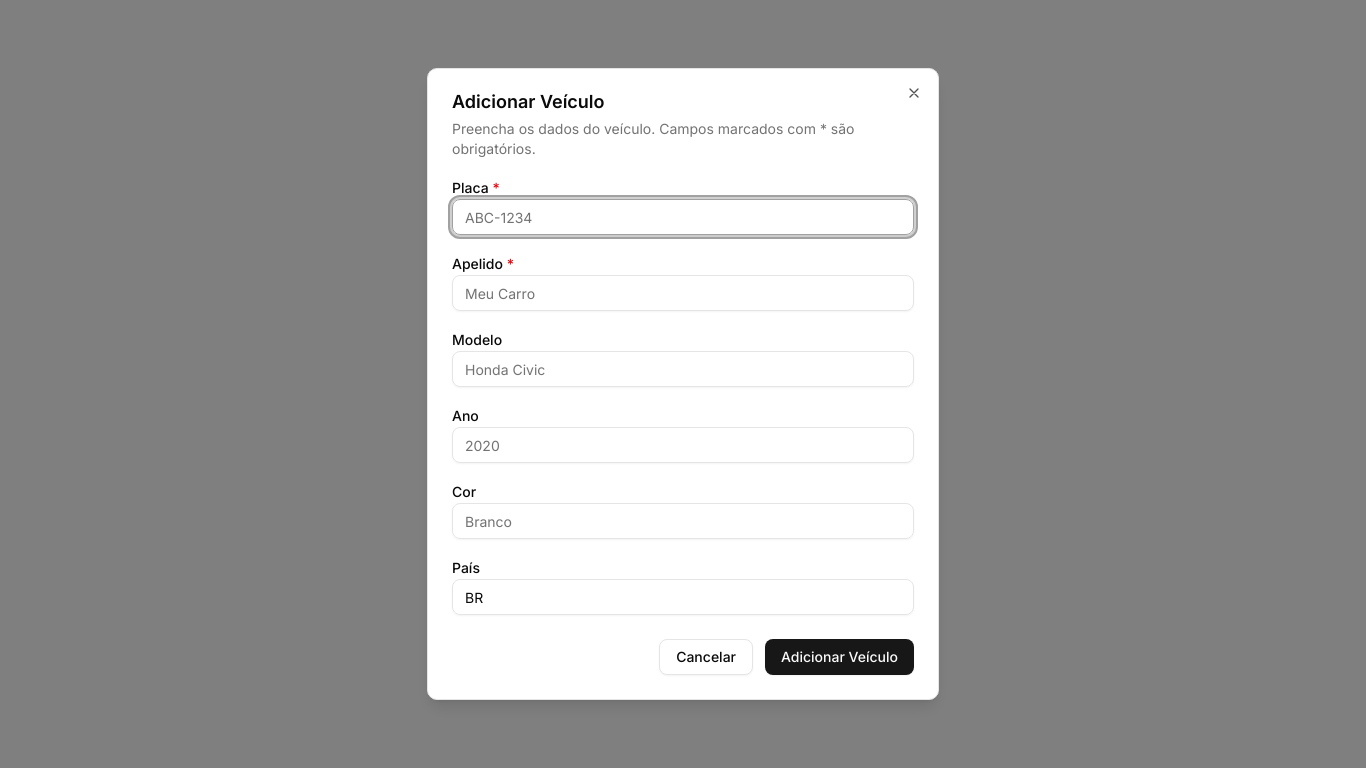
vehicleForm › validation › should show validation error when year is out of range
Type "ABC1234" into the field labelled "Placa *".
click(683, 217); type("ABC1234")  # box [452, 199, 914, 235]
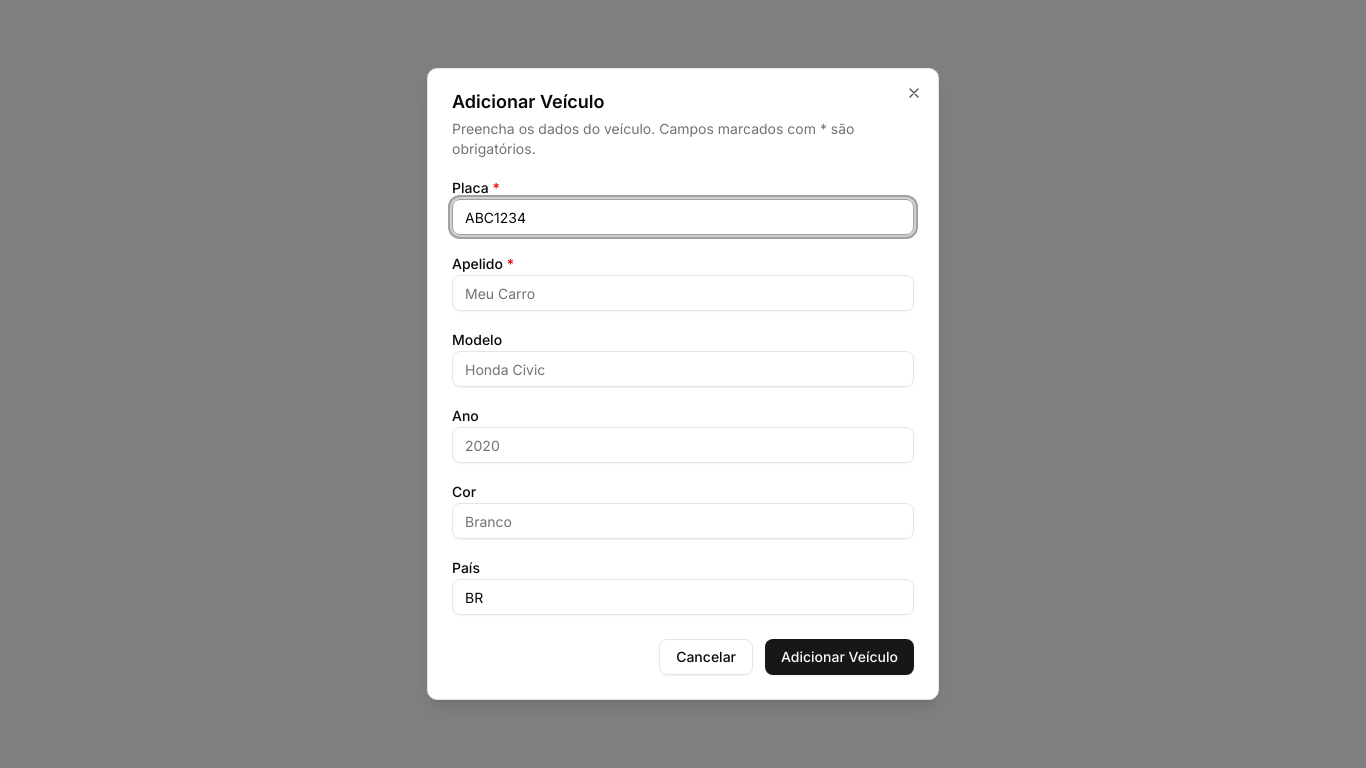
Type "Test Vehicle" into the field labelled "Apelido *".
click(683, 293); type("Test Vehicle")  # box [452, 275, 914, 311]
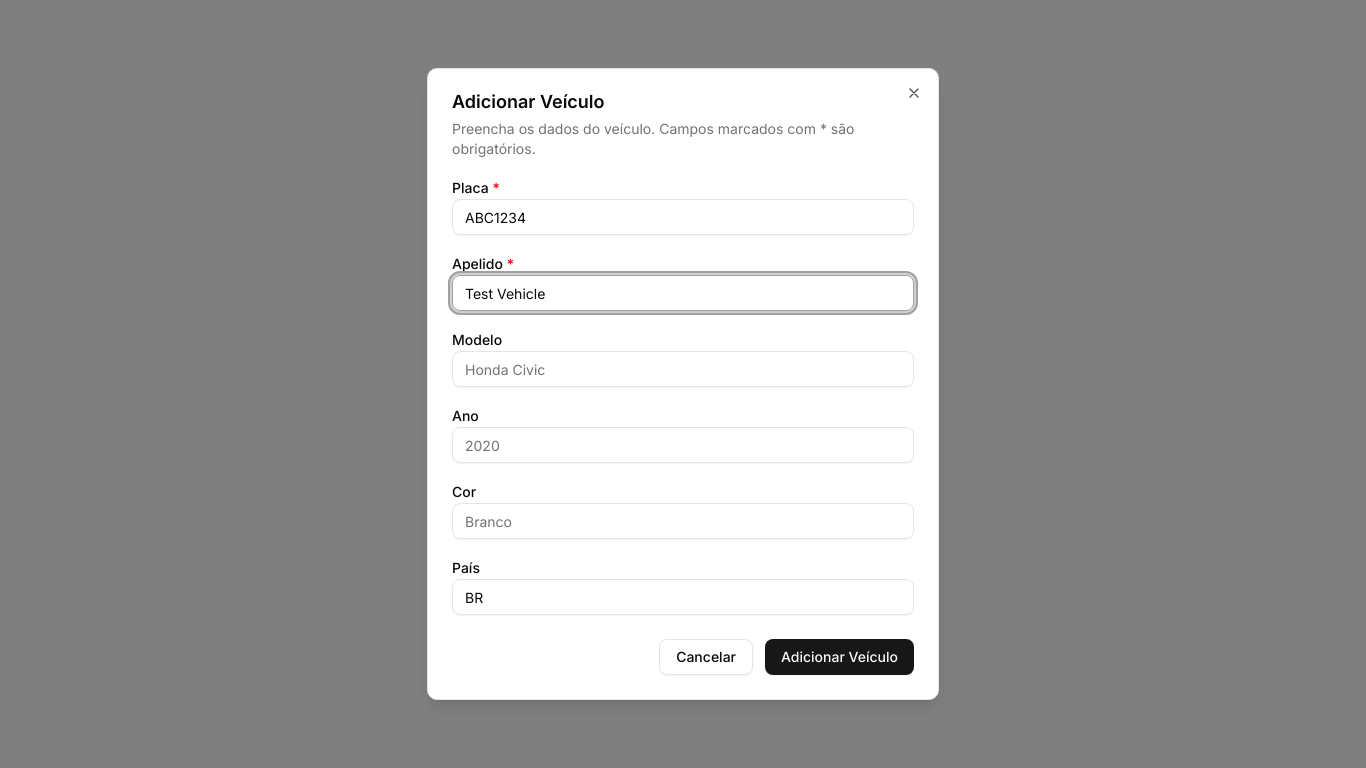
Type "1899" into the number field labelled "Ano".
click(683, 445); type("1899")  # box [452, 427, 914, 463]
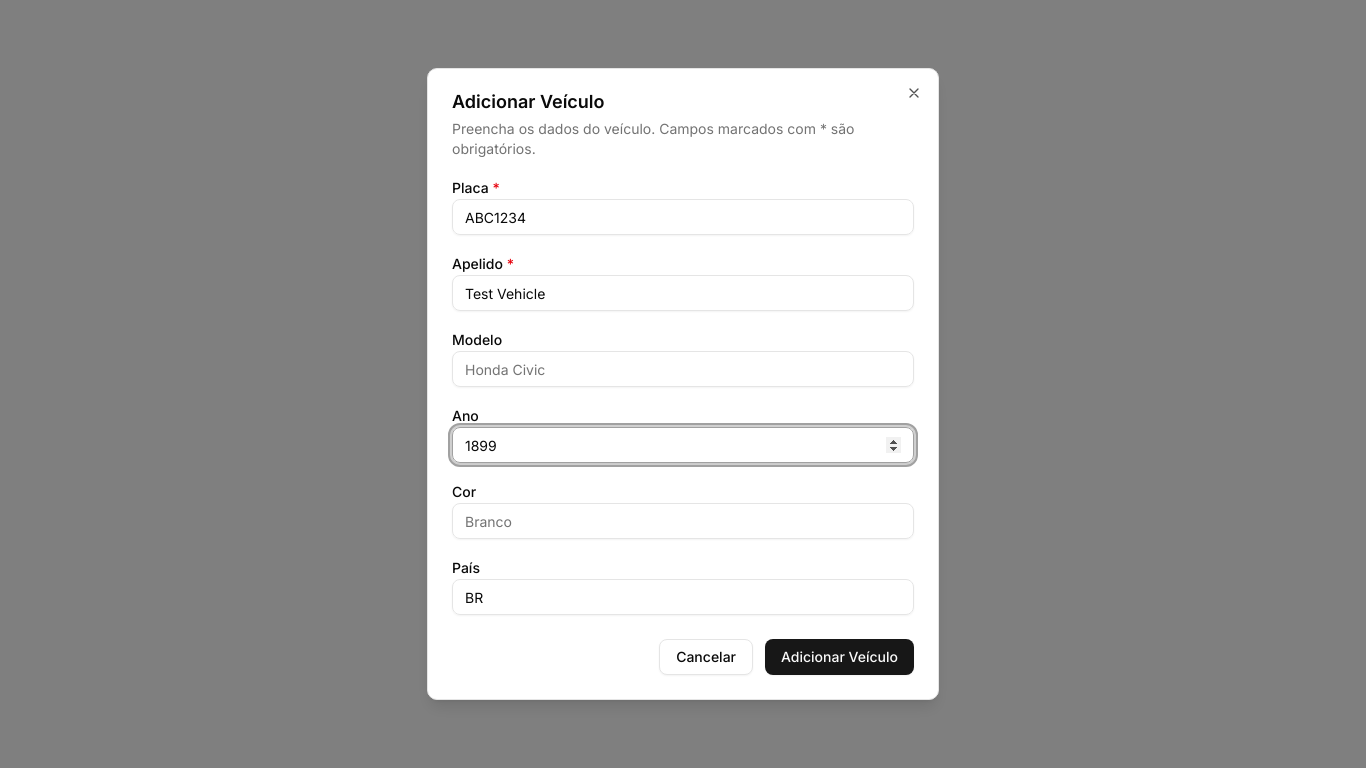
Click the button "Adicionar Veículo".
click(840, 657)  # box [765, 639, 914, 675]
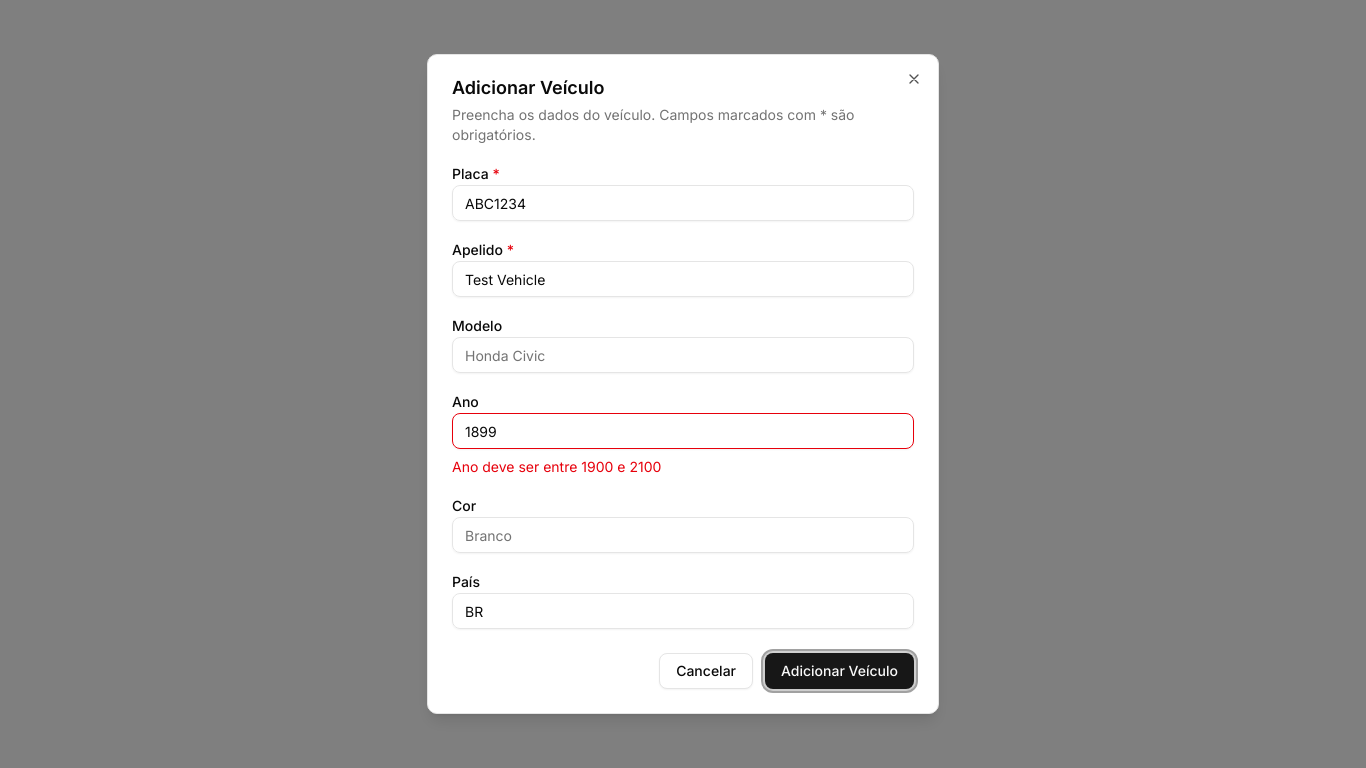
Check: the text "Ano deve ser entre 1900 e 2100" is shown, box [452, 458, 661, 475]
